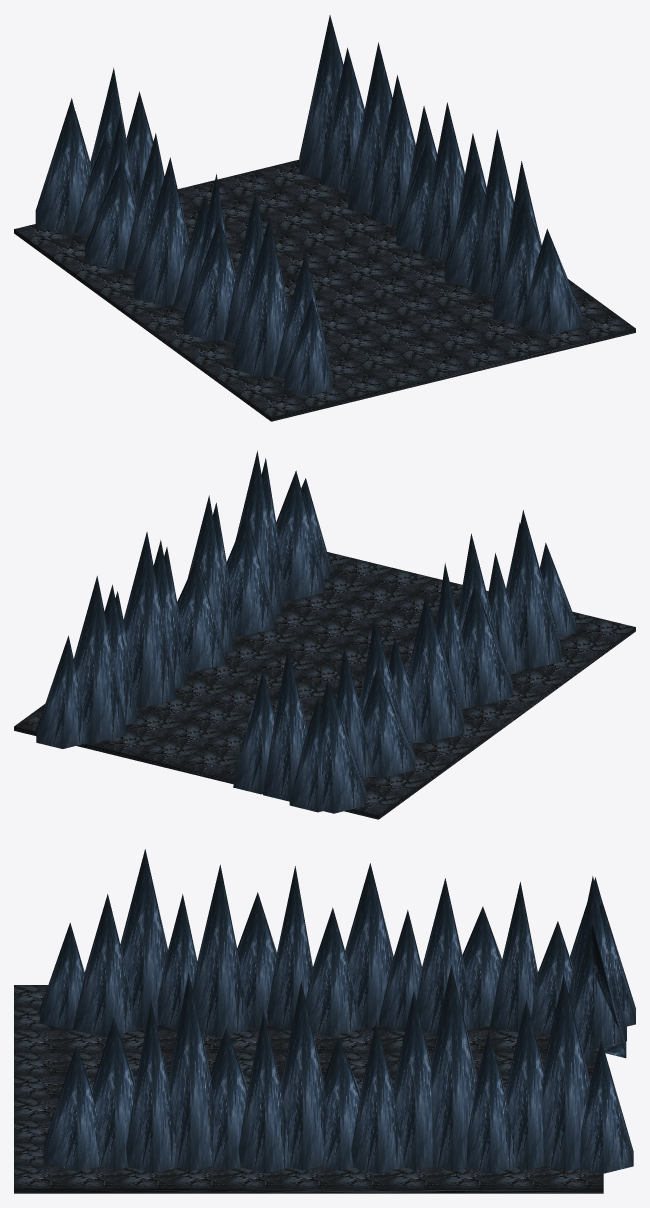
Rendered from citadel_backdrop_0.obj.
3 views of the same model, one above another, from view 1: azimuth 30°, elevation 25°; view 2: azimuth 150°, elevation 25°; view 3: azimuth 270°, elevation 25° (orthographic). The views are drawn at different scales.
Parts seen in each view (by area): view 1: citadel_backdrop_0; view 2: citadel_backdrop_0; view 3: citadel_backdrop_0.
Boxes of the visible parts, x1,y1,x2,y2 form: citadel_backdrop_0: (14,15,635,421); citadel_backdrop_0: (14,450,635,819); citadel_backdrop_0: (14,849,635,1193).
Size of the model in its own units: 90 by 39.5 by 116.
Materials: 1 (1 with a texture image).
